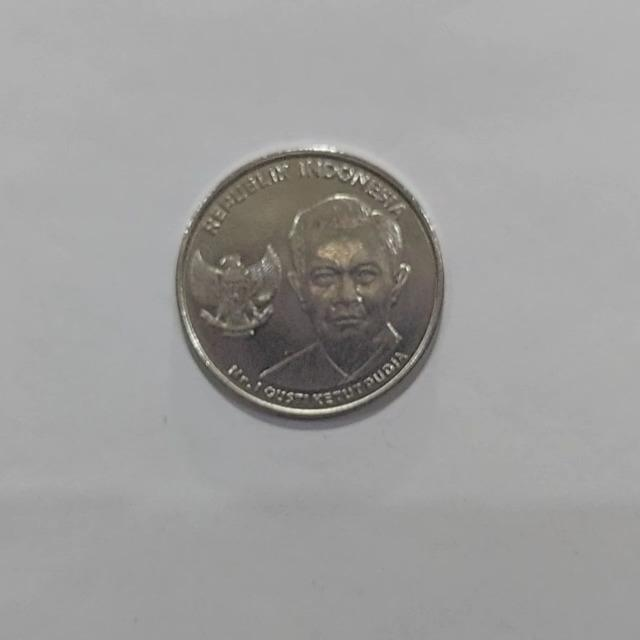Rp100: (174, 145, 445, 421)
